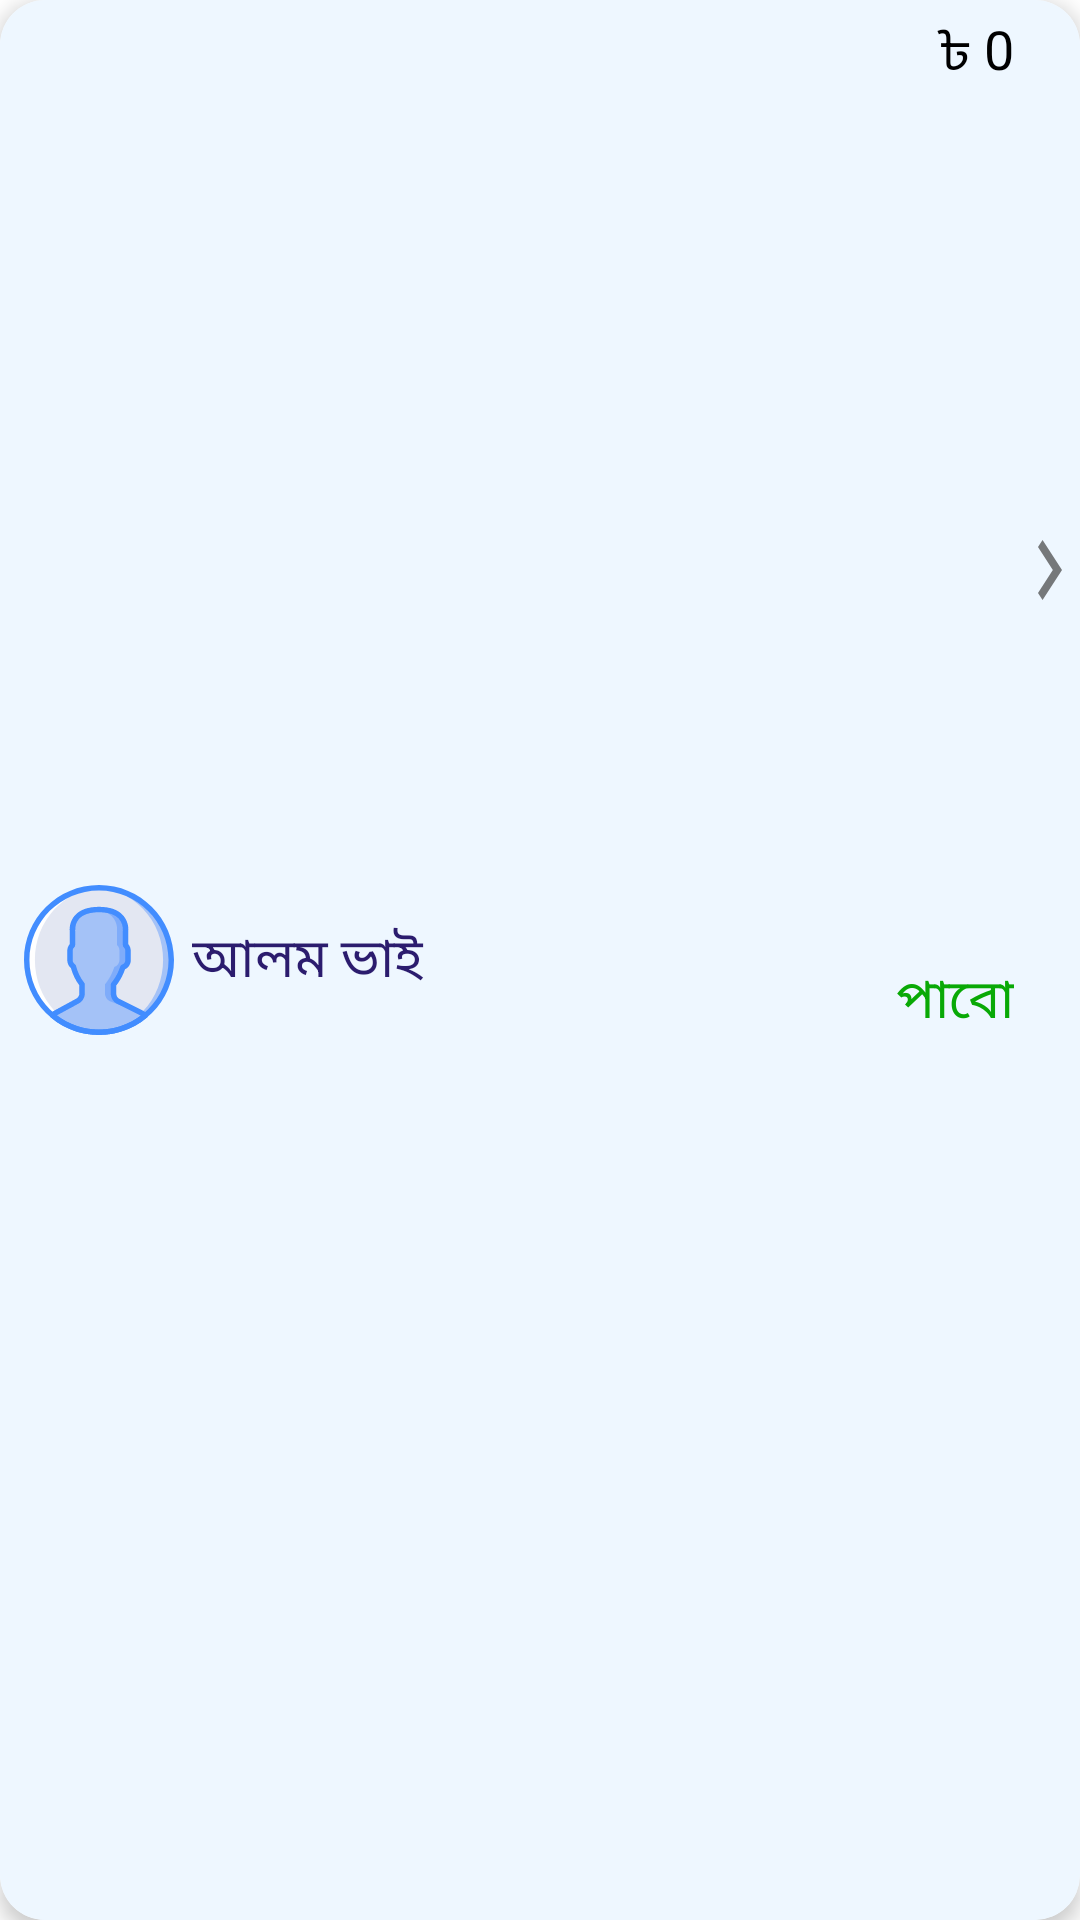

Icon bounding boxes for this 1080×1920 phone screenshot, format {"x1": x1, "y1": y1, "x2": x2, "y2": y2}:
navigate next: {"x1": 1038, "y1": 540, "x2": 1062, "y2": 600}
